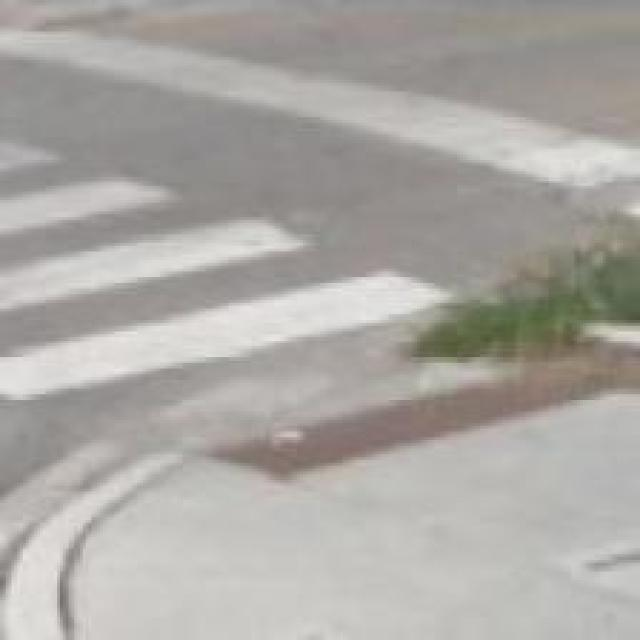walk-crossing: (0, 135, 436, 362)
